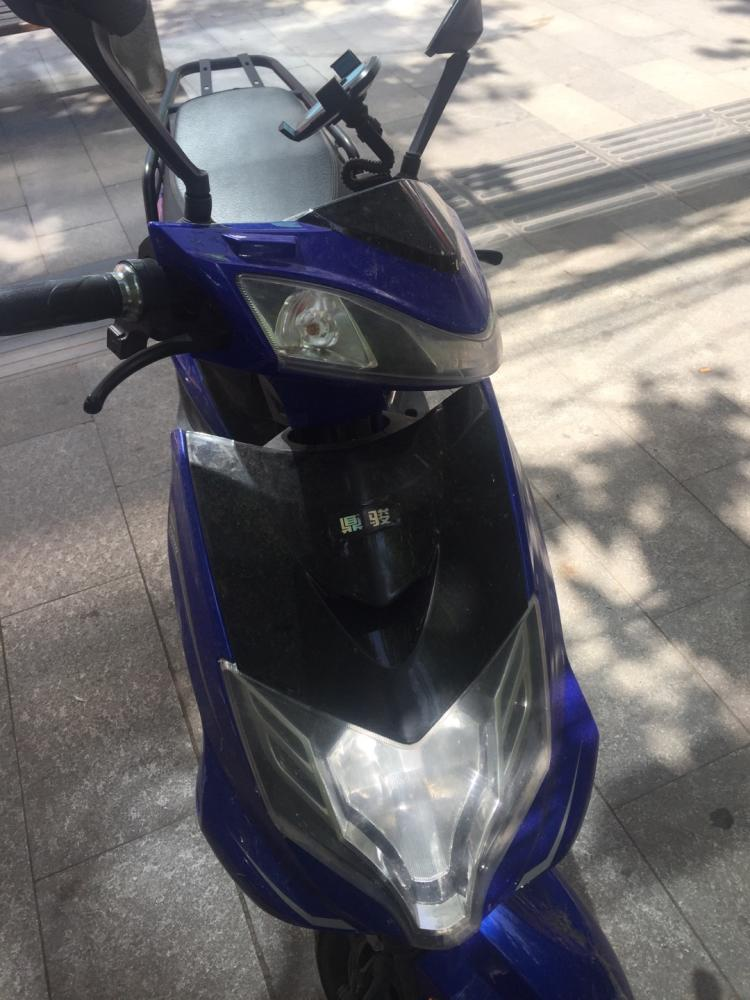电动车: (1, 1, 649, 998)
